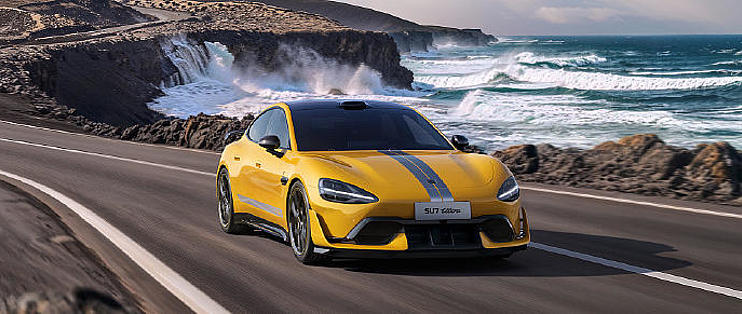su7: (211, 92, 525, 264)
